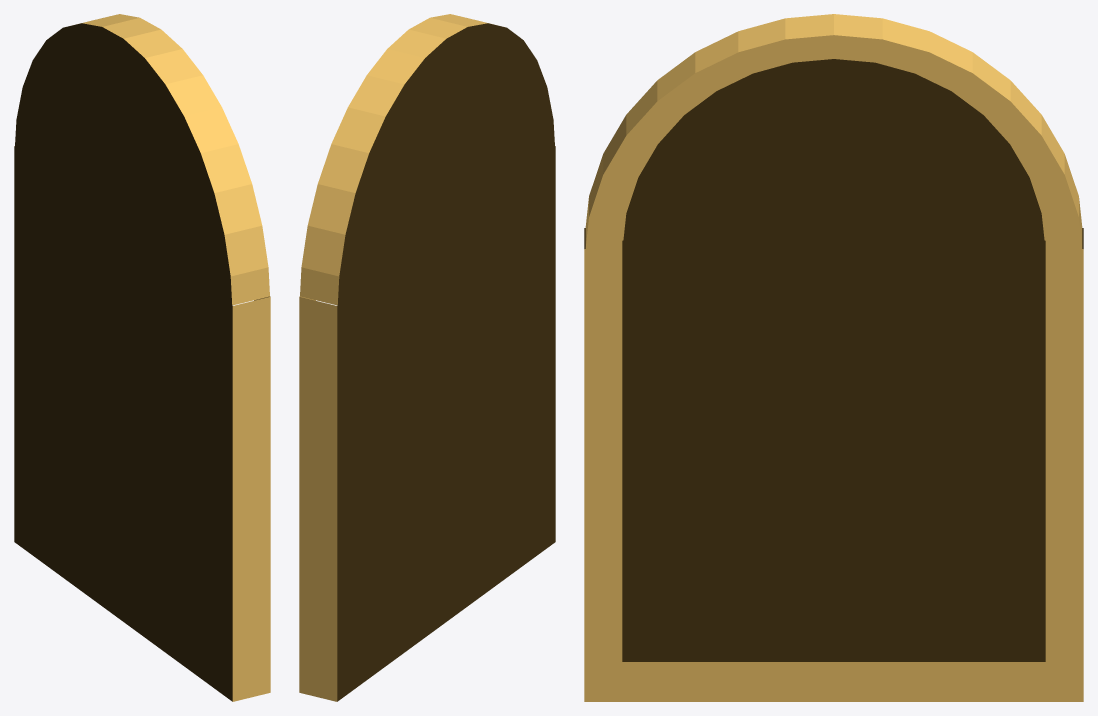
Rendered from holedoor.fbx.
3 views of the same model, side by side, from view 1: azimuth 30°, elevation 25°; view 2: azimuth 150°, elevation 25°; view 3: azimuth 270°, elevation 25° (orthographic). The views are drawn at different scales.
Visible parts, largest first — view 1: Cube; view 2: Cube; view 3: Cube.
Boxes of the visible parts, x1,y1,x2,y2 form: Cube: [14, 14, 270, 701]; Cube: [299, 14, 555, 701]; Cube: [584, 14, 1083, 701].
Bounding box in the file's own units: 20 × 295 × 200.
